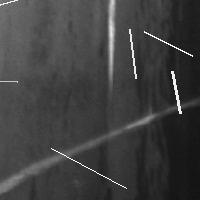scratches: (2, 100, 196, 194), (133, 1, 200, 198), (46, 143, 131, 193), (139, 27, 197, 61), (103, 1, 120, 96), (124, 24, 140, 83), (167, 66, 185, 118), (0, 0, 22, 15), (0, 76, 22, 87)
